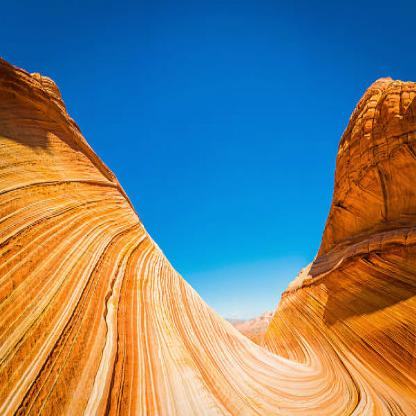Sedimentary_Sandstone: (329, 76, 415, 248), (0, 49, 68, 112)
